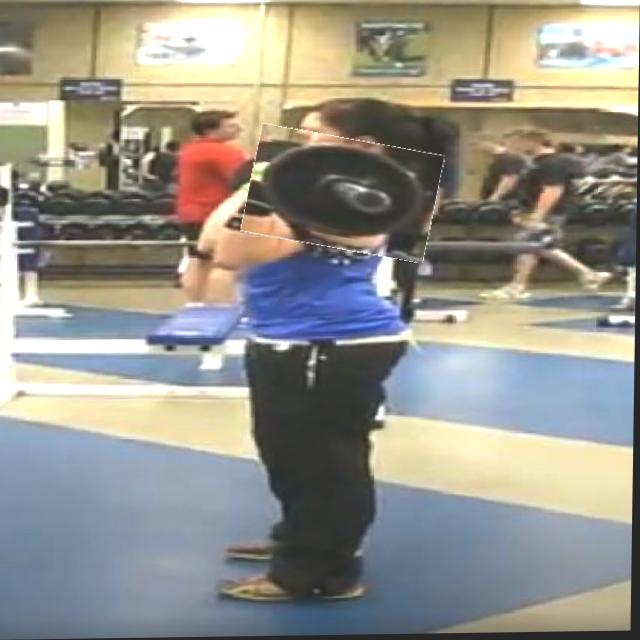barbell: (247, 132, 443, 259)
